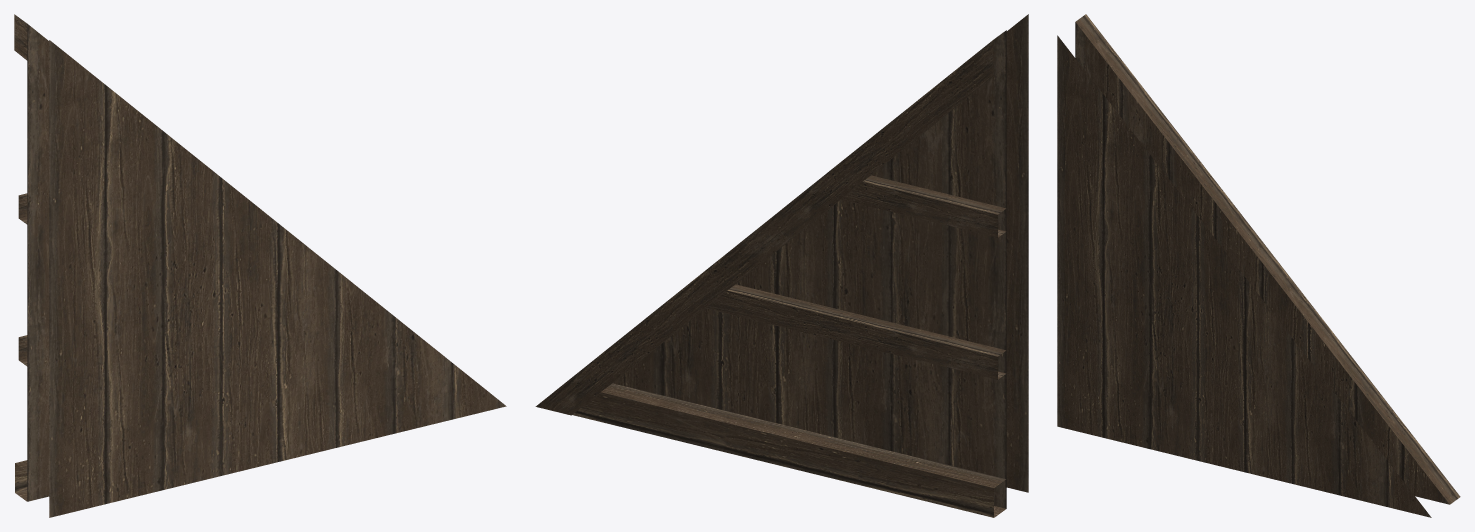
Rendered from ARC1010286.fbx.
3 renders of one model, left to right at view 1: azimuth 30°, elevation 25°; view 2: azimuth 150°, elevation 25°; view 3: azimuth 330°, elevation 25°, orthographic. The views are drawn at different scales.
Visible parts, largest first — view 1: smARC1010286; view 2: smARC1010286; view 3: smARC1010286.
Boxes of the visible parts, box(x1,y1,x2,y2) form: smARC1010286: box(14, 14, 506, 517); smARC1010286: box(535, 14, 1028, 517); smARC1010286: box(1057, 14, 1460, 517).
Bounding box in the file's own units: 268 × 268 × 35.62.
Materials: 1 (1 with a texture image).
